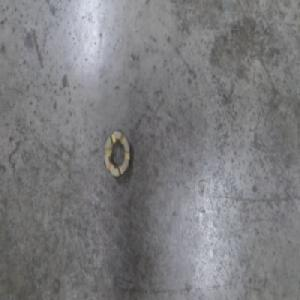Nut: (102, 126, 132, 178)
